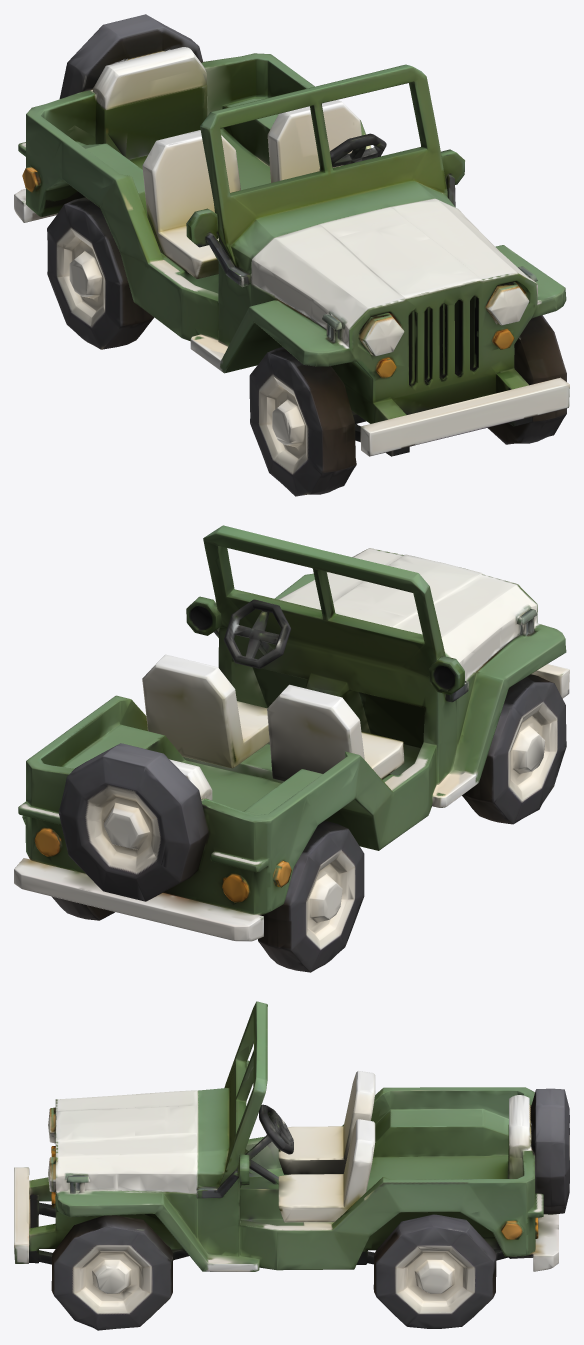
Rendered from car14.fbx.
3 views of the same model, one above another, from view 1: azimuth 30°, elevation 25°; view 2: azimuth 150°, elevation 25°; view 3: azimuth 270°, elevation 25° (orthographic). The views are drawn at different scales.
Visible parts, largest first — view 1: node_0; view 2: node_0; view 3: node_0.
Boxes of the visible parts, x1,y1,x2,y2 form: node_0: (14, 14, 569, 496); node_0: (14, 525, 569, 972); node_0: (14, 1001, 569, 1330).
Size of the model in its own units: 50.47 by 54.03 by 111.
